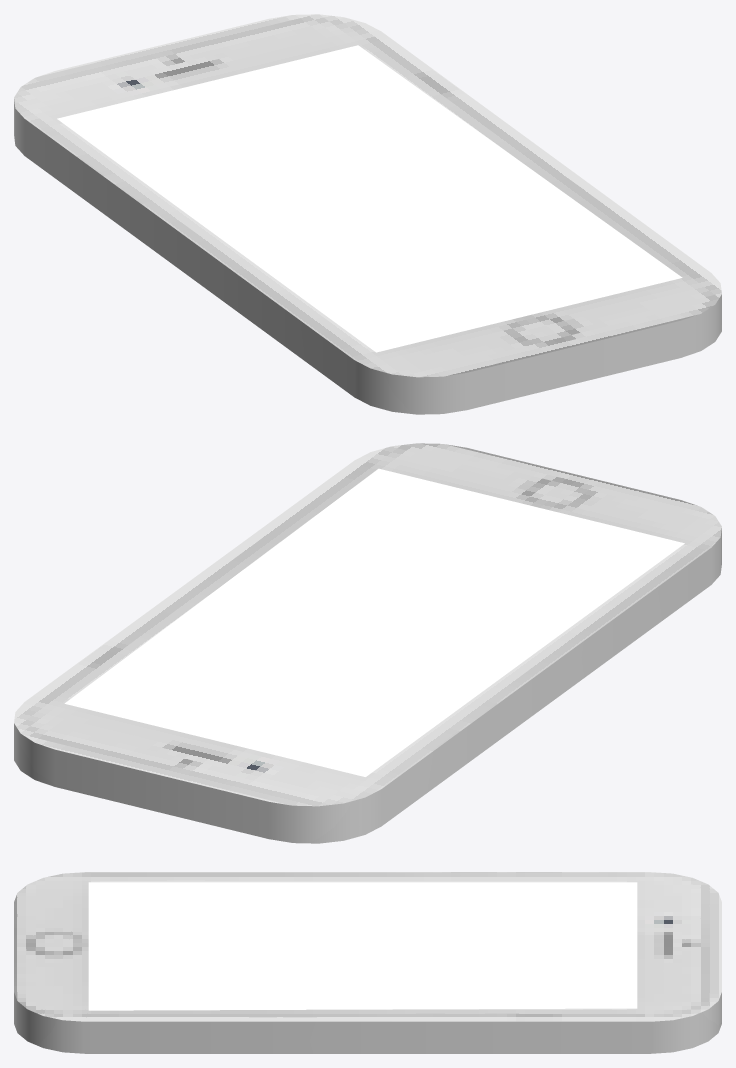
Rendered from Phone.glb.
3 renders of one model, top to bottom at view 1: azimuth 30°, elevation 25°; view 2: azimuth 150°, elevation 25°; view 3: azimuth 270°, elevation 25°, orthographic. The views are drawn at different scales.
Parts seen in each view (by area): view 1: Phone; view 2: Phone; view 3: Phone.
Part boxes in pixels (x1,y1,x2,y2): Phone: [14, 14, 721, 414]; Phone: [14, 443, 721, 843]; Phone: [14, 872, 721, 1053].
Bounding box in the file's own units: 0.133 × 0.0151 × 0.266.
Materials: 2 (2 with a texture image).
